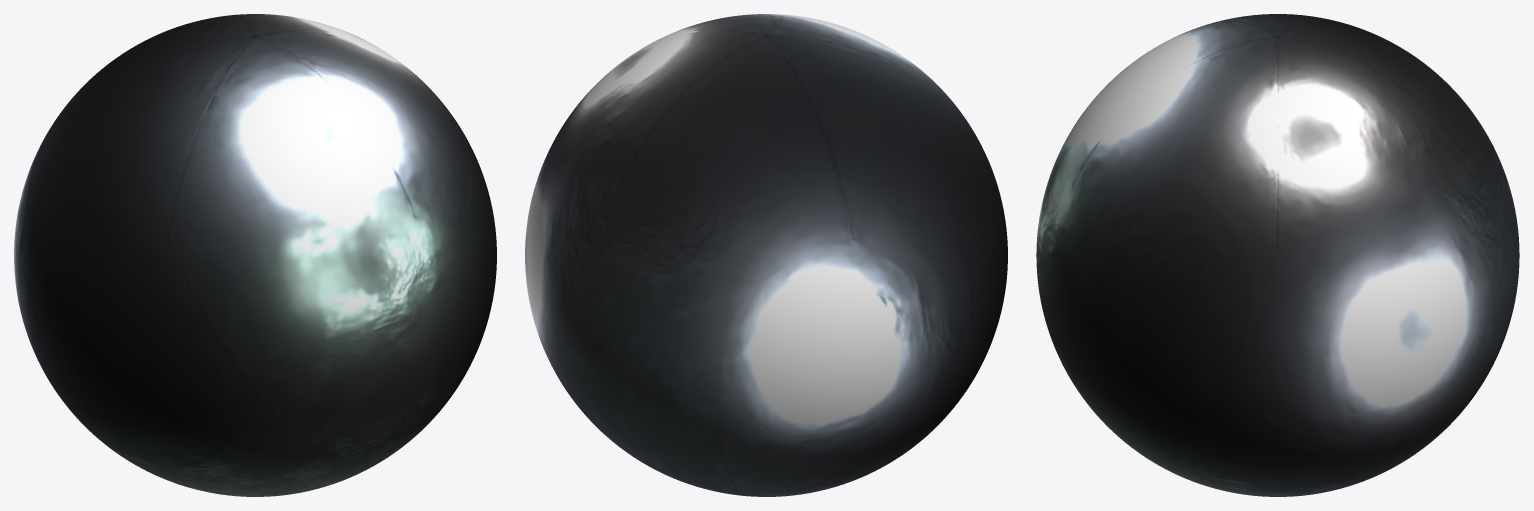
The model's file is studiometal.glb.
3 views of the same model, side by side, from view 1: azimuth 30°, elevation 25°; view 2: azimuth 150°, elevation 25°; view 3: azimuth 270°, elevation 25° (orthographic).
Visible parts, largest first — view 1: Icosphere; view 2: Icosphere; view 3: Icosphere.
Boxes of the visible parts, x1,y1,x2,y2 form: Icosphere: (14, 14, 496, 496); Icosphere: (525, 14, 1007, 496); Icosphere: (1036, 14, 1519, 496).
Bounding box in the file's own units: 2 × 2 × 2.
1 material, 1 textured.
